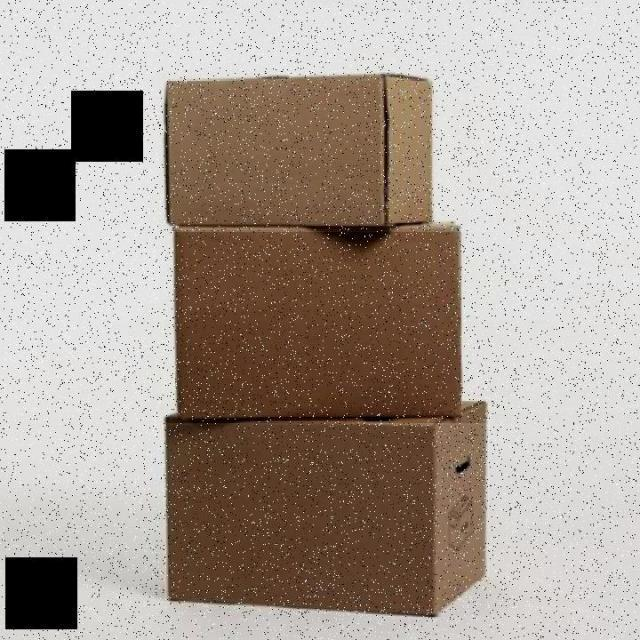box: (138, 232, 518, 423), (153, 425, 510, 617), (150, 60, 448, 232)
